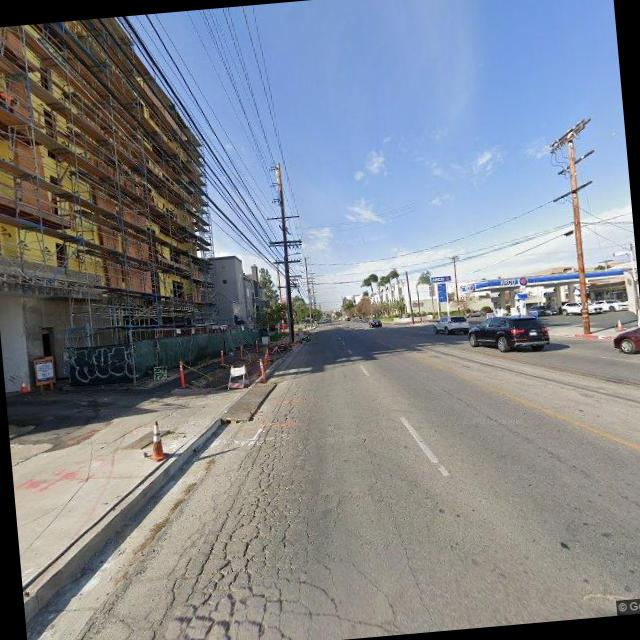crack: (119, 381, 337, 640)
